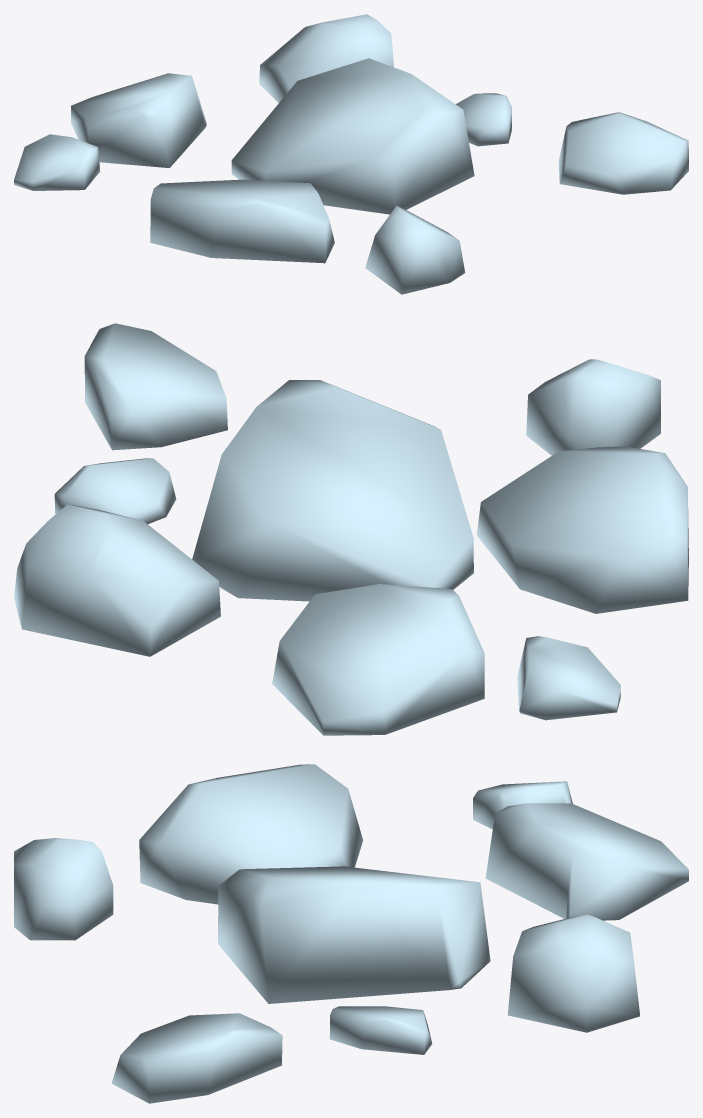
Rendered from Stone_Large.fbx.
3 renders of one model, top to bottom at view 1: azimuth 30°, elevation 25°; view 2: azimuth 150°, elevation 25°; view 3: azimuth 270°, elevation 25°, orthographic. The views are drawn at different scales.
Visible parts, largest first — view 1: stone_big; view 2: stone_big; view 3: stone_big.
Part boxes in pixels (box(x1,y1,x2,y2)): stone_big: box(14, 14, 688, 294); stone_big: box(14, 323, 688, 735); stone_big: box(14, 764, 688, 1103).
Size of the model in its own units: 338 by 54.36 by 309.
